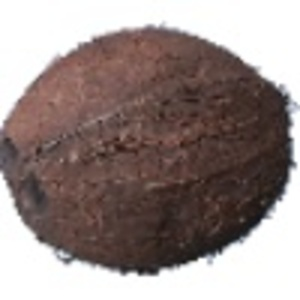coco: (1, 26, 300, 275)
